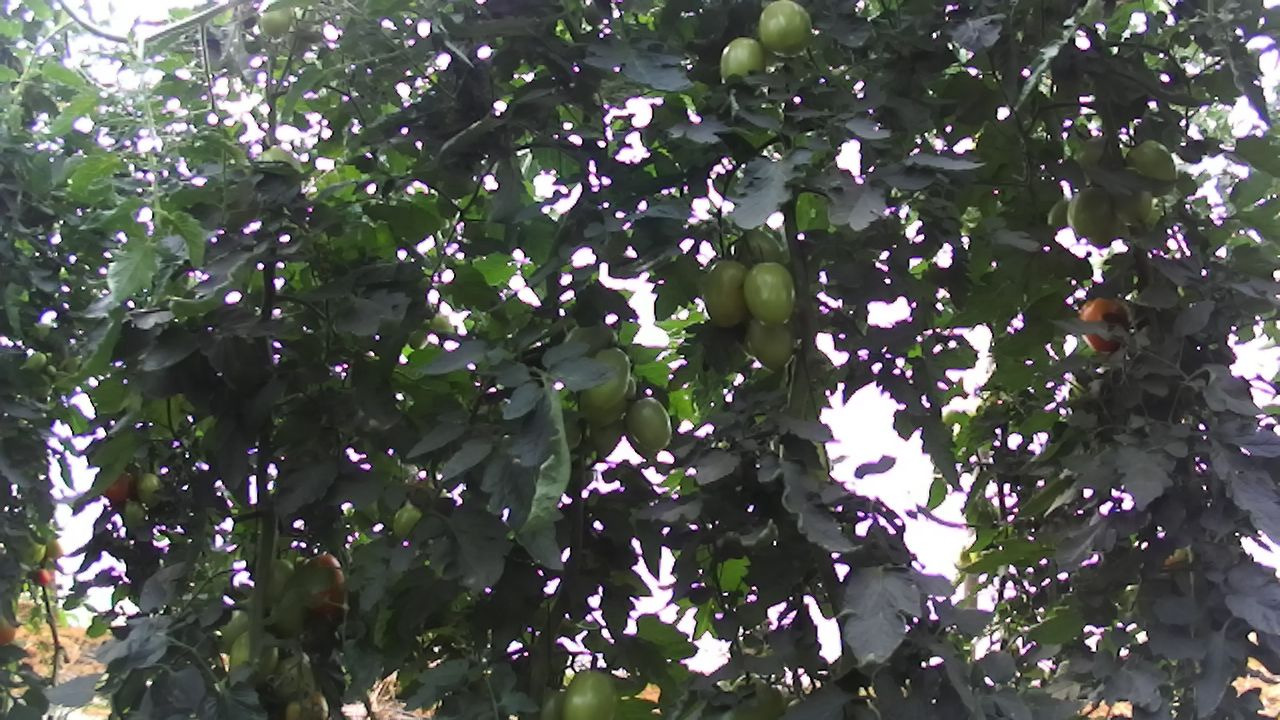tomato: (700, 252, 755, 331), (741, 258, 799, 331), (557, 662, 622, 720), (581, 345, 636, 410), (755, 0, 816, 57), (622, 393, 676, 453), (715, 33, 766, 92), (1064, 183, 1115, 240), (747, 315, 796, 374), (1120, 138, 1178, 185), (131, 469, 166, 508)
